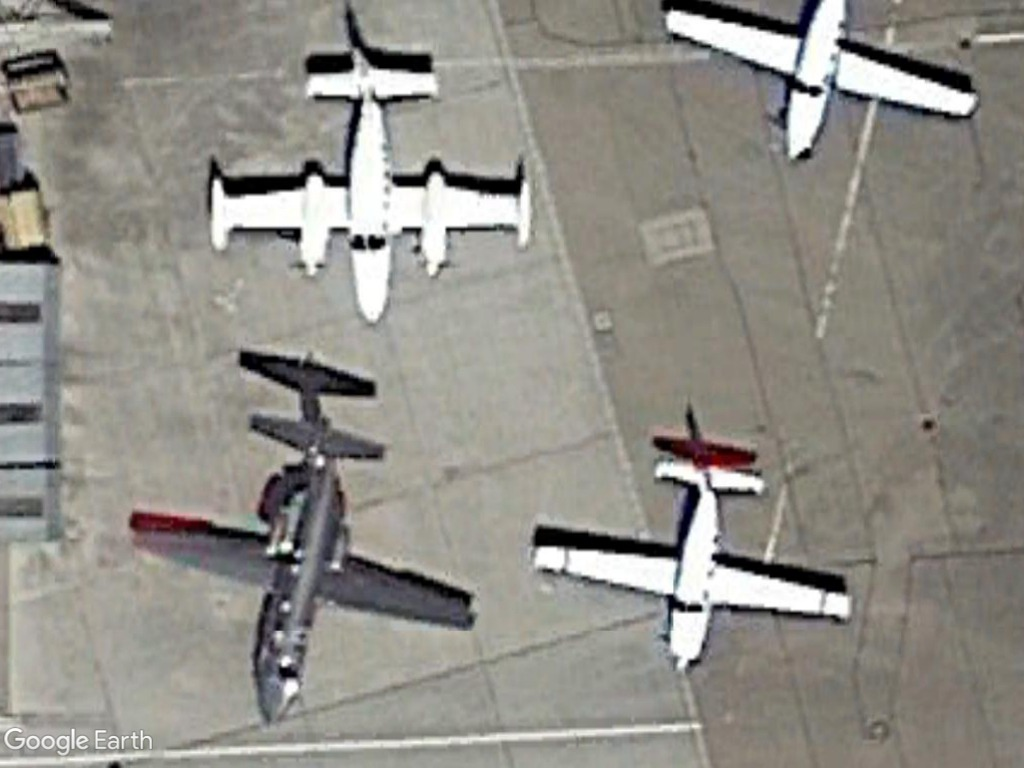propeller: (196, 58, 540, 328)
trainer: (523, 443, 860, 678)
